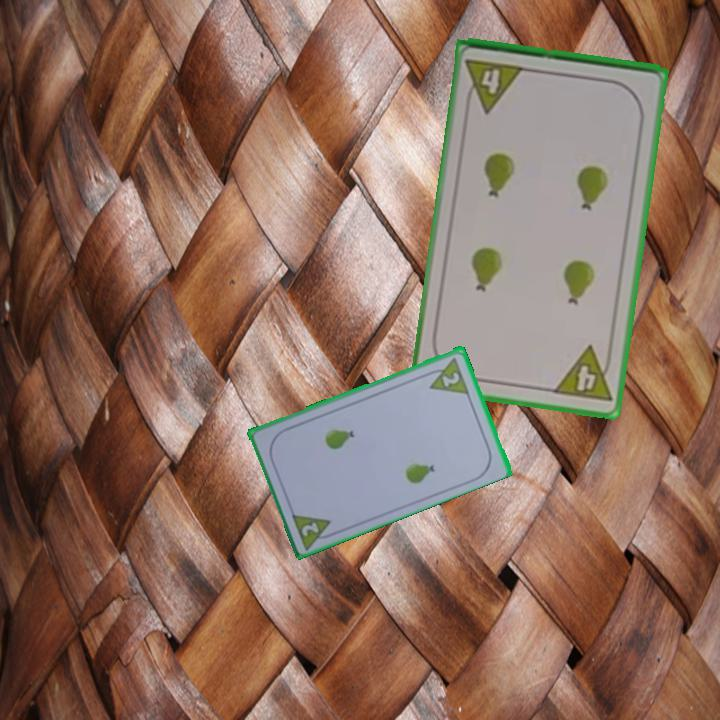2p: (288, 508, 340, 551), (439, 368, 463, 389)
4p: (549, 342, 616, 406), (462, 55, 527, 116)
